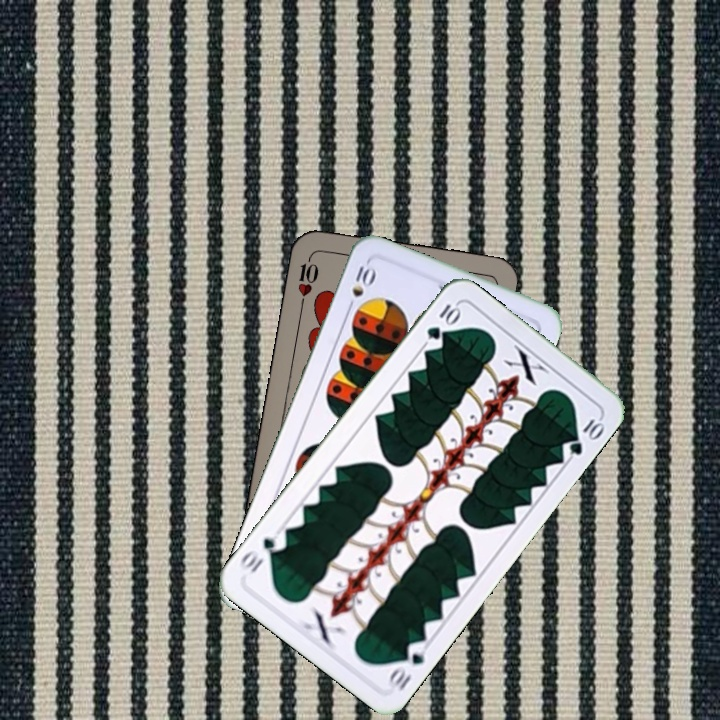G10: (385, 637, 431, 694), (422, 300, 463, 343)
H10: (293, 250, 322, 308)
S10: (342, 261, 378, 315)
